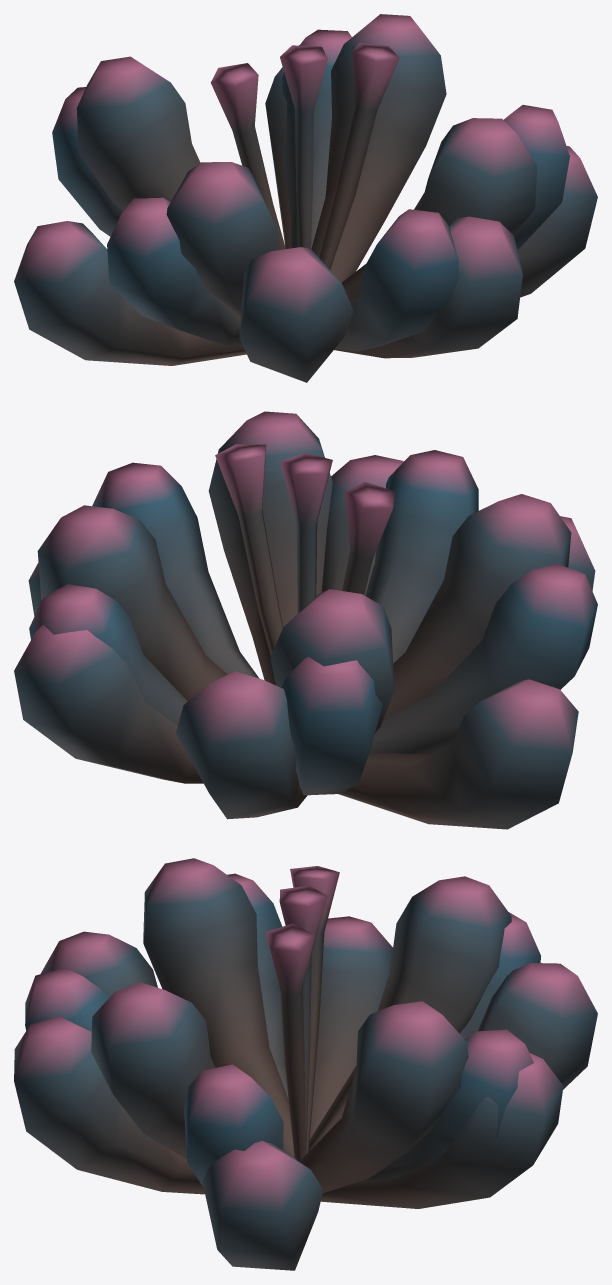
File: plants-cacti-succulents-baby-toes_v3.glb
3 renders of one model, top to bottom at view 1: azimuth 30°, elevation 25°; view 2: azimuth 150°, elevation 25°; view 3: azimuth 270°, elevation 25°, orthographic. The views are drawn at different scales.
Visible parts, largest first — view 1: Baby Toes_v3; view 2: Baby Toes_v3; view 3: Baby Toes_v3.
Boxes of the visible parts, x1=… form: Baby Toes_v3: x1=14, y1=14, x2=597, y2=382; Baby Toes_v3: x1=14, y1=411, x2=597, y2=829; Baby Toes_v3: x1=14, y1=858, x2=597, y2=1270.
Bounding box in the file's own units: 0.15 × 0.0788 × 0.1379.
